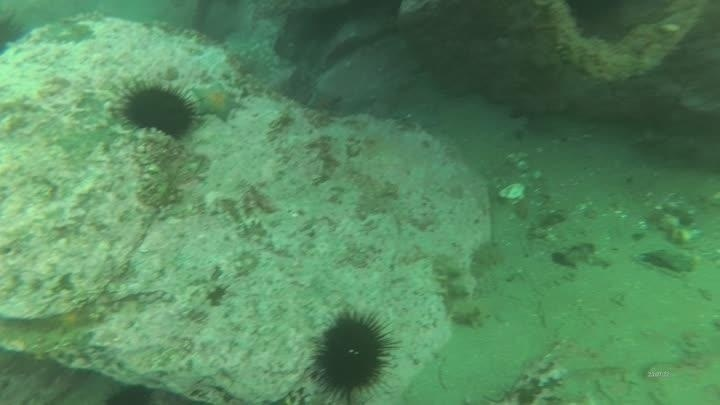echinus: (306, 308, 398, 402), (117, 78, 200, 141)
holothurian: (430, 252, 487, 330)
starfish: (190, 81, 245, 124)
